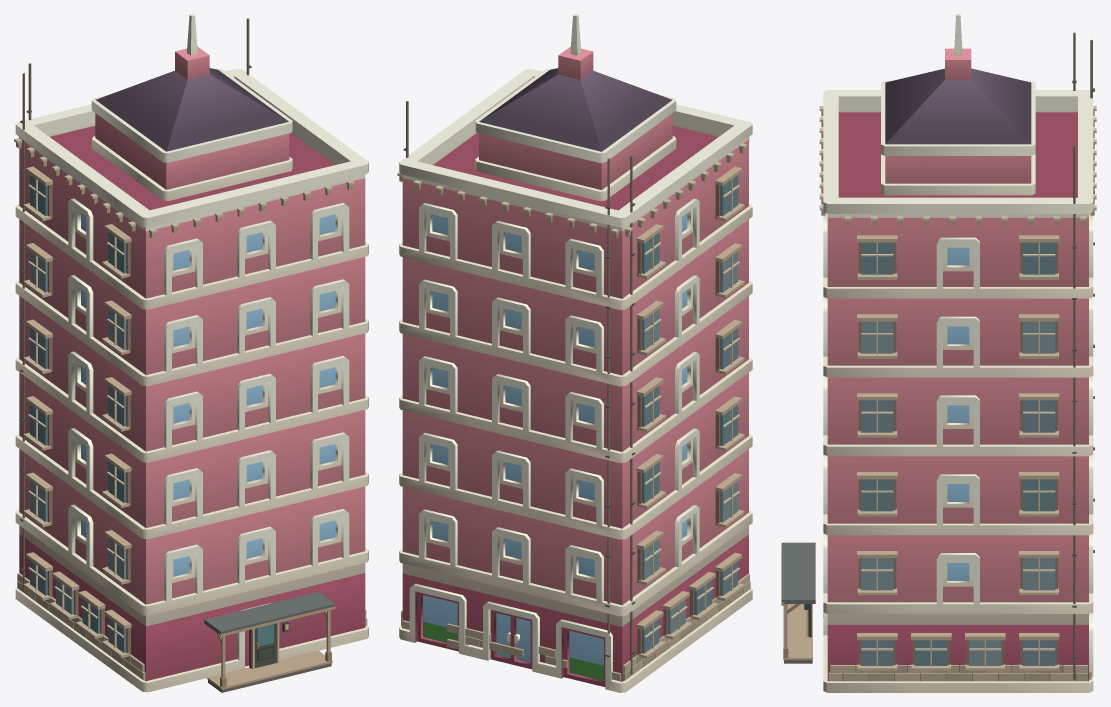
Rendered from shop-m-pink.glb.
3 views of the same model, side by side, from view 1: azimuth 30°, elevation 25°; view 2: azimuth 150°, elevation 25°; view 3: azimuth 270°, elevation 25° (orthographic). The views are drawn at different scales.
Parts seen in each view (by area): view 1: building-m, Masonry_and_stairwell_windows, Residential_Portico, Upper_floor_balconies_and_carved_cornice; view 2: building-m, Masonry_and_stairwell_windows, Upper_floor_balconies_and_carved_cornice; view 3: building-m, Masonry_and_stairwell_windows, Residential_Portico, Upper_floor_balconies_and_carved_cornice.
Part boxes in pixels (x1,y1,x2,y2): building-m: [15, 14, 368, 692]; Masonry_and_stairwell_windows: [17, 18, 367, 680]; Residential_Portico: [204, 592, 335, 692]; Upper_floor_balconies_and_carved_cornice: [14, 137, 354, 238]; building-m: [399, 14, 752, 692]; Masonry_and_stairwell_windows: [401, 101, 750, 681]; Upper_floor_balconies_and_carved_cornice: [397, 137, 749, 238]; building-m: [823, 14, 1093, 692]; Masonry_and_stairwell_windows: [828, 32, 1094, 681]; Residential_Portico: [781, 542, 815, 663]; Upper_floor_balconies_and_carved_cornice: [819, 106, 1096, 225].
Size of the model in its own units: 1.31 by 3.15 by 1.45.
Materials: 31 (1 with a texture image).
